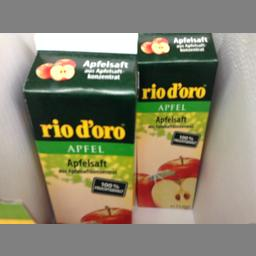juice: (22, 32, 135, 222), (132, 33, 218, 208)
